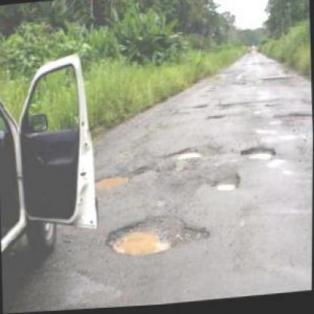Hueco: (104, 210, 213, 261), (92, 170, 134, 192), (241, 146, 278, 165), (213, 175, 243, 196), (171, 148, 203, 164), (206, 113, 228, 124)
